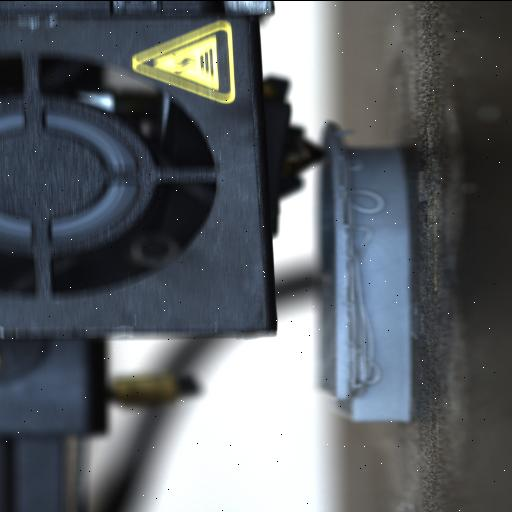layer_shift: (340, 118, 358, 422)
